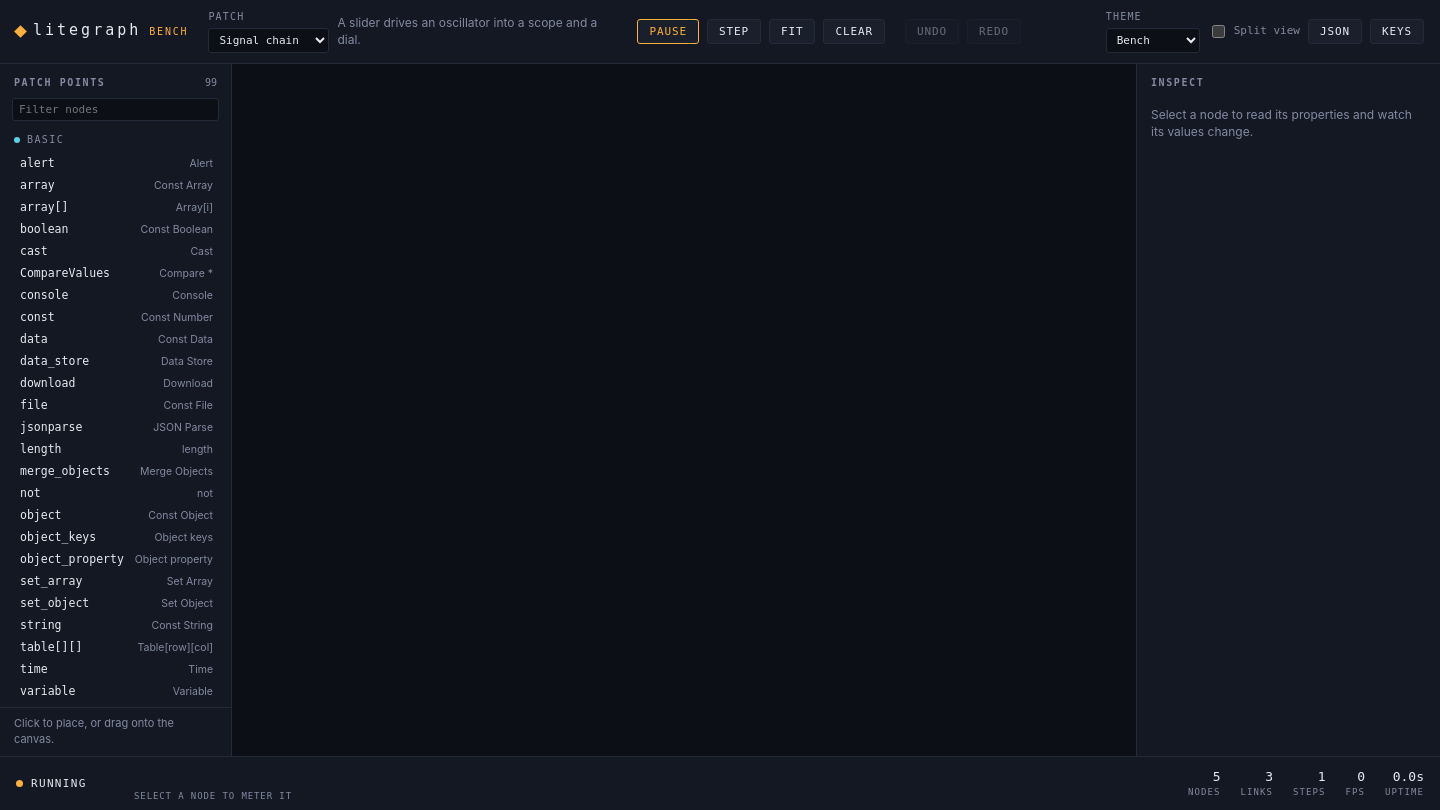
<App> the bench › filters the palette
In the search field labelled "Filter nodes": point(116, 110) top-left (12, 98), bottom-right (219, 121), type "oscillator"
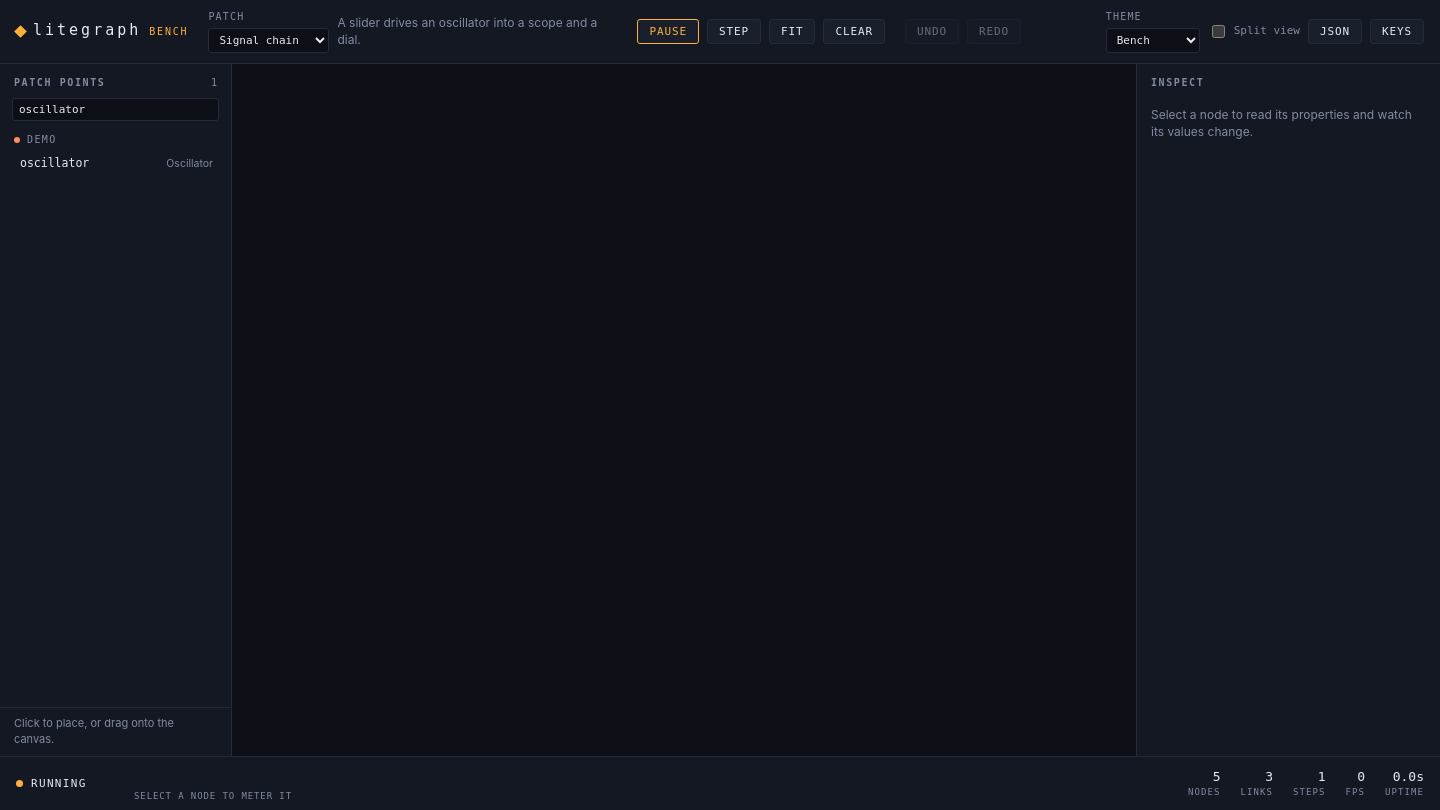
Check: the text "oscillator" is shown once, box top-left (20, 156), bottom-right (89, 170)
Replace the text in the search field named "Filter nodes" with "zzzz": point(116, 110) top-left (12, 98), bottom-right (219, 121)
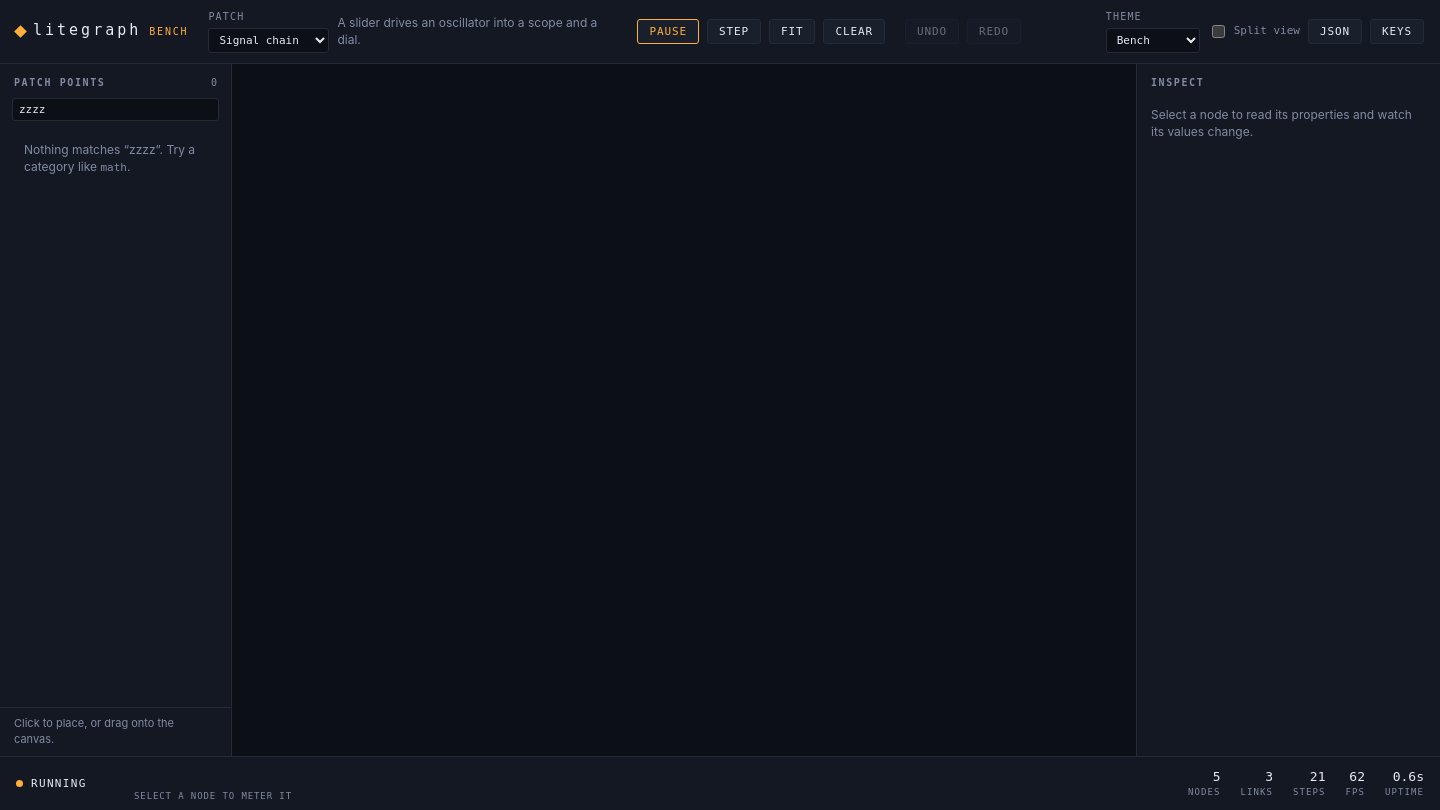
Check: the text "Nothing matches “zzzz”. Try a category like math." is shown, box top-left (24, 141), bottom-right (207, 176)
